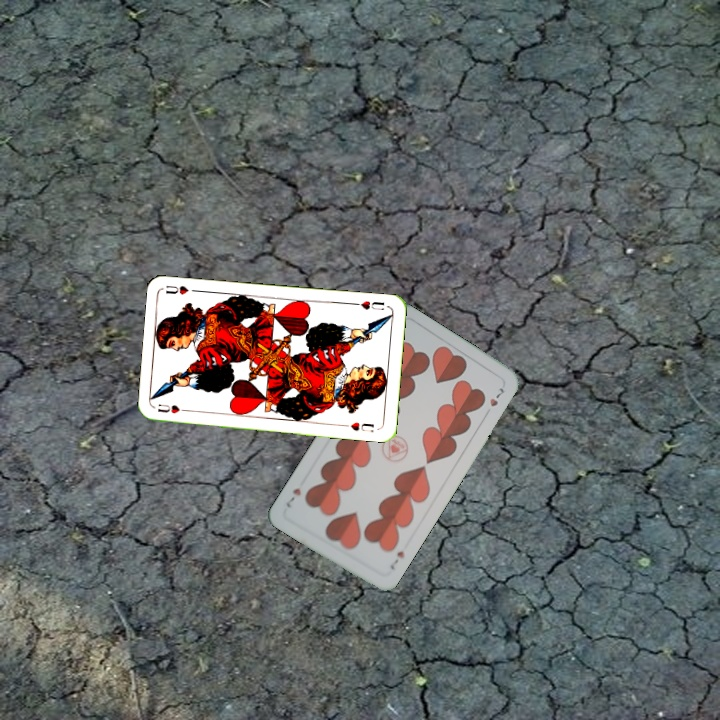H7: (386, 547, 407, 573)
HU: (154, 400, 193, 416), (350, 297, 387, 313)
